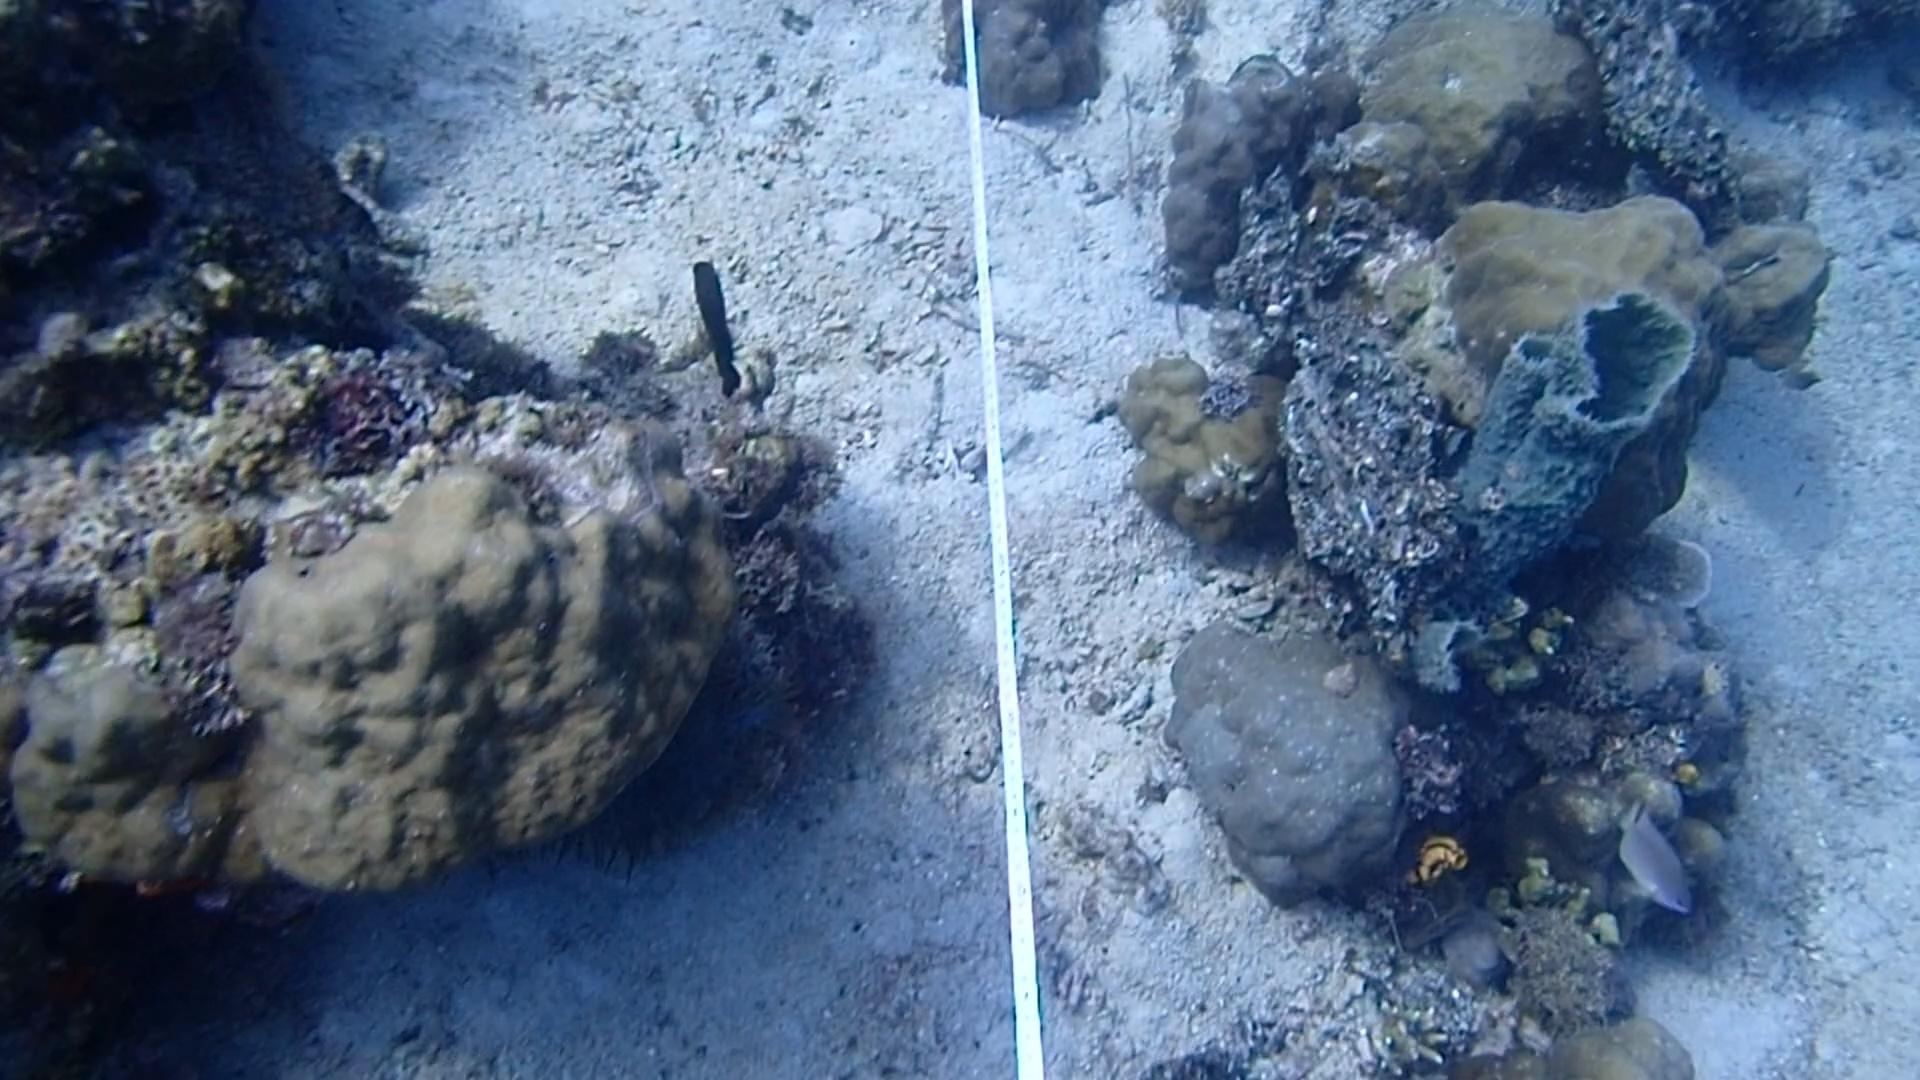Blue Nose Fish: (1613, 804, 1701, 926)
Dark Fish: (671, 249, 758, 409)
